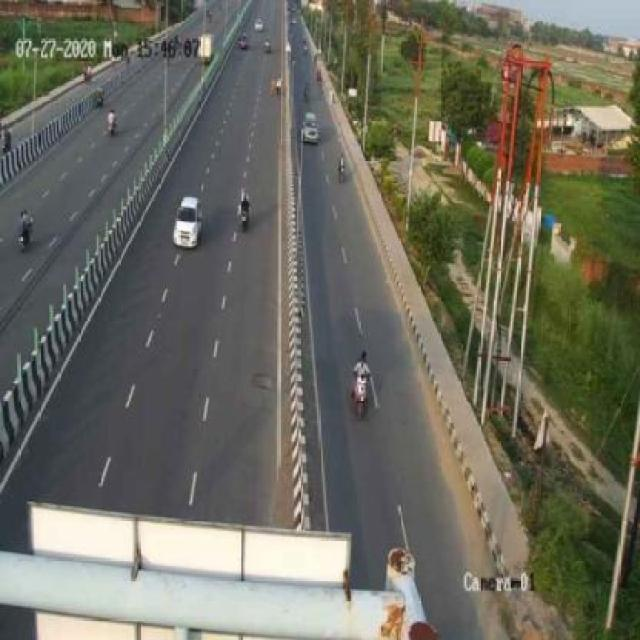car: (172, 197, 203, 249), (300, 108, 322, 148)
